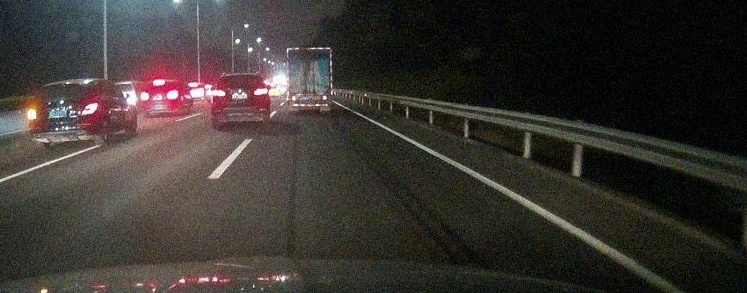L_light: (27, 107, 40, 120), (211, 89, 227, 98), (140, 92, 151, 101), (290, 96, 298, 101)
R_light: (79, 102, 100, 116), (253, 87, 269, 96), (167, 90, 179, 99)
T_light: (153, 80, 166, 86), (57, 84, 72, 88), (321, 95, 329, 100), (235, 75, 247, 78), (306, 49, 314, 52)
night-brake: (139, 78, 181, 117)
night-left: (27, 79, 101, 146)
night-no: (211, 73, 270, 128), (287, 47, 333, 113)
